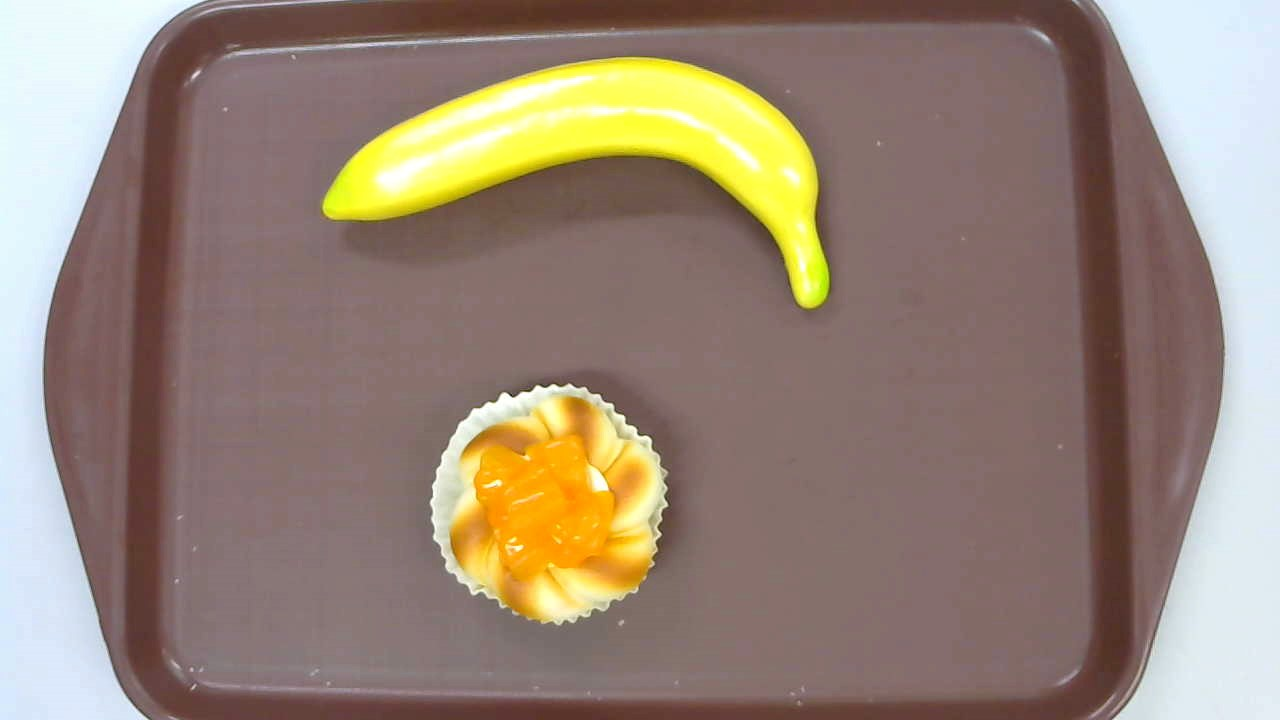banana: (322, 55, 830, 311)
mango tart: (428, 383, 669, 625)
